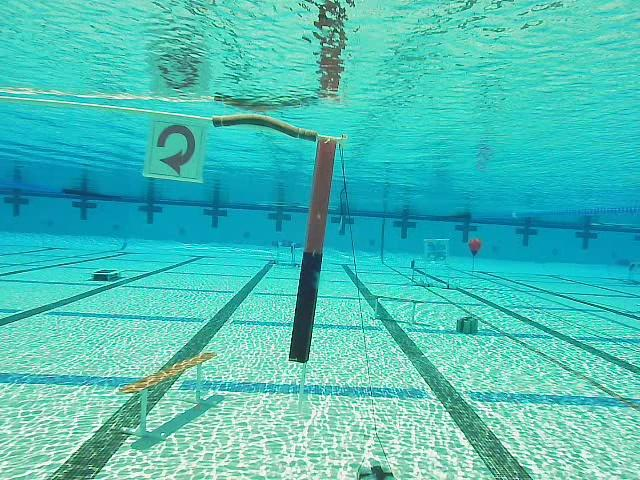buoy: (469, 237, 482, 262)
gate_leg_r: (289, 134, 338, 364)
gate_red: (145, 117, 205, 182)
table: (271, 240, 302, 269)
torpedo: (424, 238, 450, 265)
